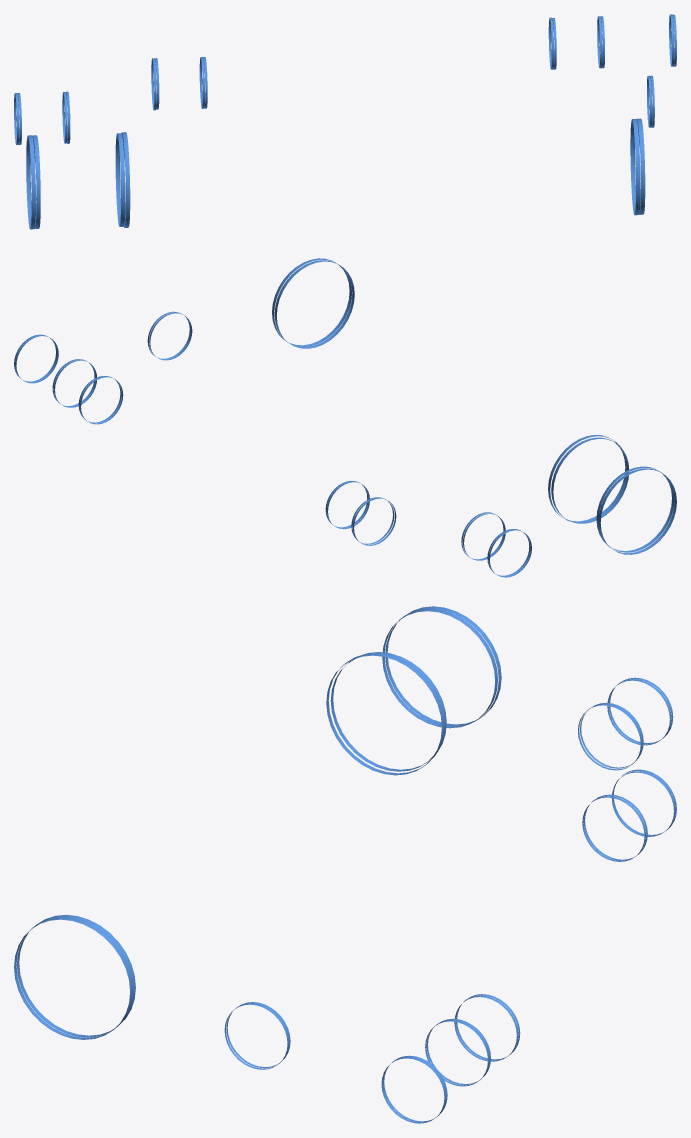
File: RedCircels1.fbx
The picture shows the model from 3 angles, top to bottom: view 1: azimuth 30°, elevation 25°; view 2: azimuth 150°, elevation 25°; view 3: azimuth 270°, elevation 25°; orthographic projection. The views are drawn at different scales.
Parts seen in each view (by area): view 1: Flanged pipe.079; view 2: Flanged pipe.079; view 3: Flanged pipe.079.
Part boxes in pixels (left/top/right/bottom): Flanged pipe.079: left=14, top=14, right=676, bottom=229; Flanged pipe.079: left=14, top=258, right=676, bottom=577; Flanged pipe.079: left=14, top=606, right=676, bottom=1123.
Bounding box in the file's own units: 426 × 83.95 × 666.
